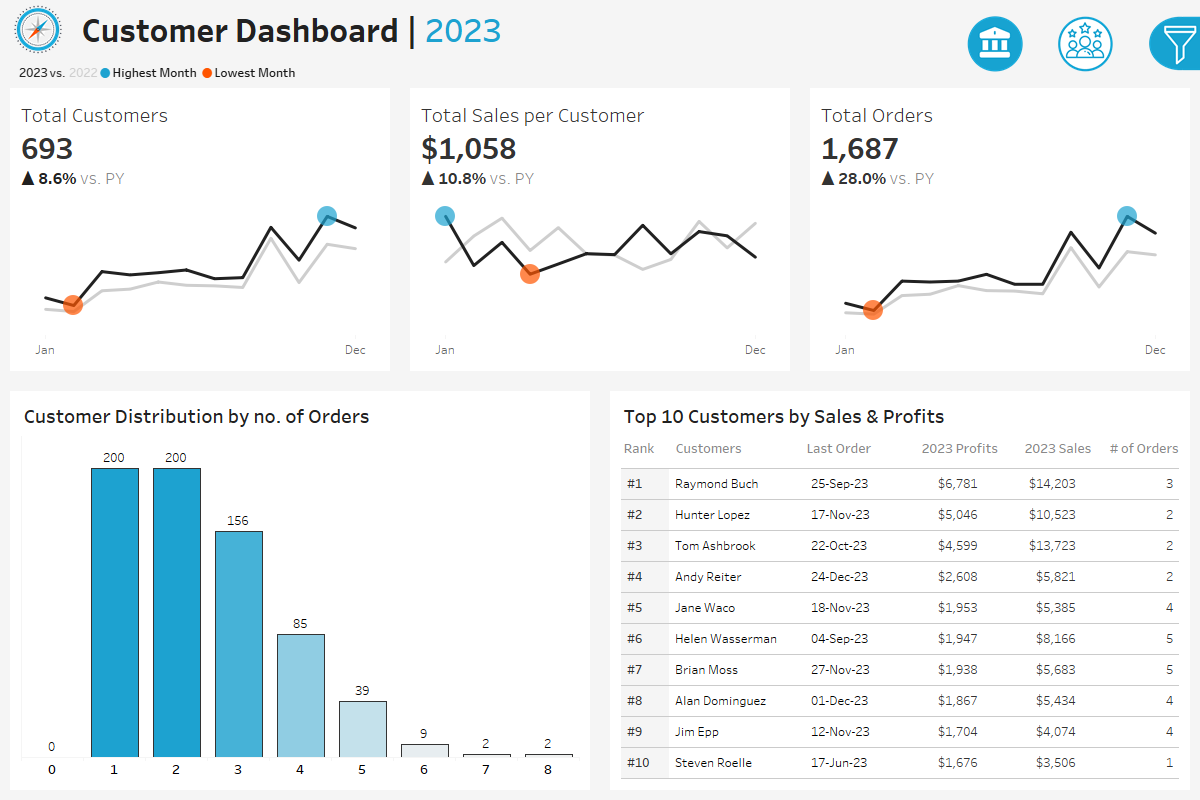

The page's visual inventory and layout, read from the dashboard file:
{"tool":"tableau","page":{"name":"Customer Dashboard","canvas":[1200,800],"ordinal":0},"visuals":[{"type":"image","param":"D:/SHIVAM/Imarticus-PGA/Self-Study (Extra)/Tableau/Sales Dashboard- Data with Ba","box":[0,0,75,58]},{"type":"text","box":[75,0,811,58]},{"type":"blank","box":[918,10,271,75]},{"type":"dashboard-object","box":[949,11,91,65]},{"type":"dashboard-object","box":[1040,11,91,65]},{"type":"worksheet","title":"Legend KPI","mark":"Automatic","box":[0,58,1200,30]},{"type":"text","box":[918,85,271,34]},{"type":"worksheet","title":"KPI Customers","mark":"Line","rows":["Calculation_742249516076089354"],"cols":["Order Date"],"box":[0,88,400,293]},{"type":"worksheet","title":"KPI Sales per Customer","mark":"Automatic","rows":["Min/Max Customers (copy)_742249516116983824"],"cols":["Order Date"],"box":[400,88,400,293]},{"type":"worksheet","title":"KPI Orders","mark":"Automatic","rows":["Min/Max Sales per Customer (copy)_742249516122505238"],"cols":["Order Date"],"box":[800,88,400,293]},{"type":"parameter","param":"[Parameters].[Parameter 1]","box":[918,119,271,52]},{"type":"blank","box":[918,171,271,61]},{"type":"text","box":[918,232,271,29]},{"type":"filter","title":"KPI Customers","param":"[federated.1a7nlih1x0uzpz17a6ge31akw376].[none:Category:nk]","box":[918,261,271,52]},{"type":"filter","title":"KPI Customers","param":"[federated.1a7nlih1x0uzpz17a6ge31akw376].[none:Sub-Category:nk]","box":[918,313,271,52]},{"type":"blank","box":[918,365,271,61]},{"type":"text","box":[17,398,566,34]},{"type":"text","box":[617,398,566,34]},{"type":"text","box":[918,426,271,29]},{"type":"worksheet","title":"Customer Distribution","mark":"Bar","rows":["Calculation_742249516073226240"],"cols":["Calculation_742249516126556185"],"box":[17,432,566,351]},{"type":"text","box":[617,432,52,32]},{"type":"text","box":[669,432,131,32]},{"type":"text","box":[800,432,115,32]},{"type":"text","box":[915,432,103,32]},{"type":"text","box":[1018,432,84.5,32]},{"type":"text","box":[1102.5,432,80.5,32]},{"type":"filter","title":"KPI Customers","param":"[federated.1a7nlih1x0uzpz17a6ge31akw376].[none:Region:nk]","box":[918,455,271,52]},{"type":"worksheet","title":"Top Customers","mark":"Automatic","rows":["Calculation_171981213455163395","Customer Name","Order Date"],"box":[617,464,566,319]},{"type":"filter","title":"KPI Customers","param":"[federated.1a7nlih1x0uzpz17a6ge31akw376].[none:State:nk]","box":[918,507,271,52]},{"type":"filter","title":"KPI Customers","param":"[federated.1a7nlih1x0uzpz17a6ge31akw376].[none:City:nk]","box":[918,559,271,52]}]}

Visuals, with their boxes in screenshot pixels (x1, y1, x2, y2), scaled from the page's 1200x800 canvas onto the 1200x800 screenshot:
image: x1=0, y1=0, x2=75, y2=58
text: x1=75, y1=0, x2=886, y2=58
blank: x1=918, y1=10, x2=1189, y2=85
dashboard-object: x1=949, y1=11, x2=1040, y2=76
dashboard-object: x1=1040, y1=11, x2=1131, y2=76
"Legend KPI" worksheet: x1=0, y1=58, x2=1199, y2=88
text: x1=918, y1=85, x2=1189, y2=119
"KPI Customers" worksheet (Line marks): x1=0, y1=88, x2=400, y2=381
"KPI Sales per Customer" worksheet: x1=400, y1=88, x2=800, y2=381
"KPI Orders" worksheet: x1=800, y1=88, x2=1199, y2=381
parameter: x1=918, y1=119, x2=1189, y2=171
blank: x1=918, y1=171, x2=1189, y2=232
text: x1=918, y1=232, x2=1189, y2=261
"KPI Customers" filter: x1=918, y1=261, x2=1189, y2=313
"KPI Customers" filter: x1=918, y1=313, x2=1189, y2=365
blank: x1=918, y1=365, x2=1189, y2=426
text: x1=17, y1=398, x2=583, y2=432
text: x1=617, y1=398, x2=1183, y2=432
text: x1=918, y1=426, x2=1189, y2=455
"Customer Distribution" worksheet (Bar marks): x1=17, y1=432, x2=583, y2=783
text: x1=617, y1=432, x2=669, y2=464
text: x1=669, y1=432, x2=800, y2=464
text: x1=800, y1=432, x2=915, y2=464
text: x1=915, y1=432, x2=1018, y2=464
text: x1=1018, y1=432, x2=1102, y2=464
text: x1=1102, y1=432, x2=1183, y2=464
"KPI Customers" filter: x1=918, y1=455, x2=1189, y2=507
"Top Customers" worksheet: x1=617, y1=464, x2=1183, y2=783
"KPI Customers" filter: x1=918, y1=507, x2=1189, y2=559
"KPI Customers" filter: x1=918, y1=559, x2=1189, y2=611
